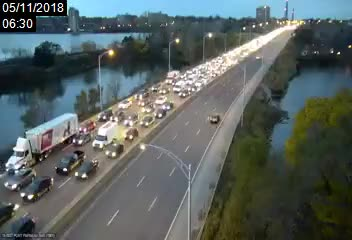congestion: (4, 103, 136, 204), (116, 81, 184, 122), (169, 61, 215, 91)
personal_car: (2, 214, 39, 240), (22, 175, 56, 202), (4, 165, 37, 191), (55, 149, 83, 172), (77, 157, 99, 181), (1, 197, 15, 223), (107, 141, 125, 158), (122, 125, 140, 140), (79, 117, 95, 132), (98, 108, 114, 121), (75, 132, 91, 144), (207, 111, 220, 125), (154, 107, 169, 118), (171, 80, 185, 91), (118, 100, 133, 110), (137, 87, 149, 99), (154, 94, 166, 105), (142, 102, 154, 113), (157, 86, 171, 95), (161, 101, 173, 110), (179, 88, 189, 97), (152, 80, 161, 90), (138, 97, 148, 106)
truck: (6, 112, 78, 171), (92, 121, 118, 149)
